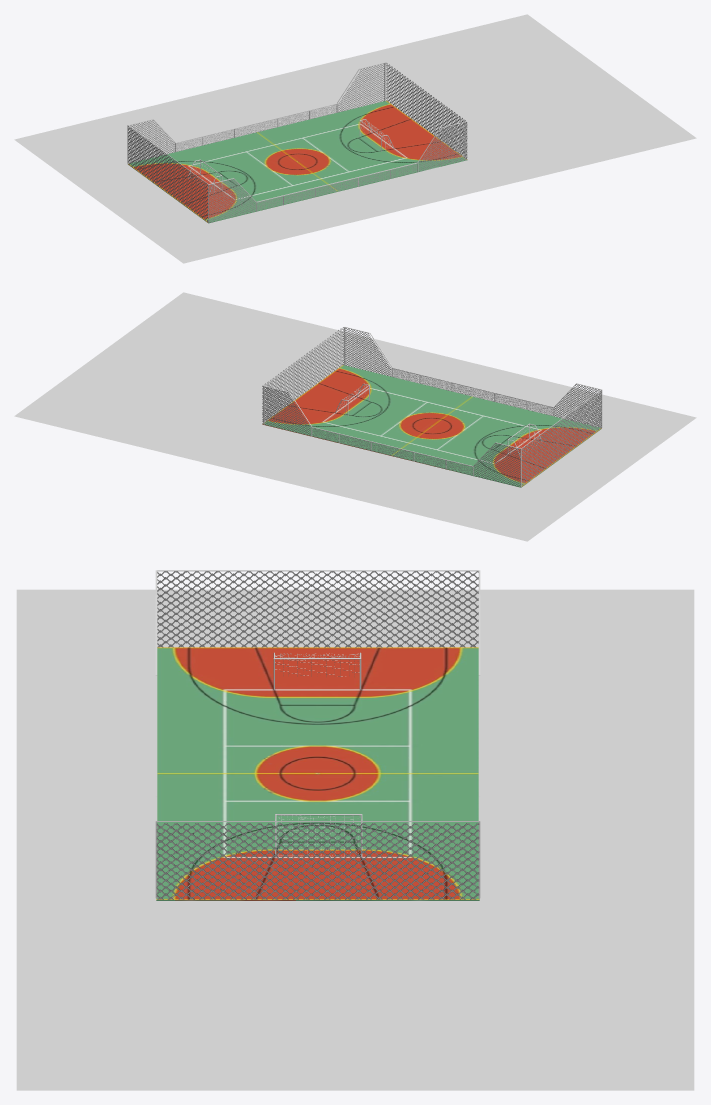
The model's file is praca.fbx.
3 views of the same model, one above another, from view 1: azimuth 30°, elevation 25°; view 2: azimuth 150°, elevation 25°; view 3: azimuth 270°, elevation 25° (orthographic). The views are drawn at different scales.
Parts seen in each view (by area): view 1: Plane, Cube, Plane.001, Cube.002; view 2: Plane, Cube, Plane.001, Cube.002; view 3: Plane, Cube, Plane.001, Cube.002, Frame.
Part boxes in pixels (x1=…): Plane: x1=14, y1=14, x2=696, y2=263; Cube: x1=128, y1=100, x2=467, y2=223; Plane.001: x1=128, y1=62, x2=467, y2=222; Cube.002: x1=127, y1=62, x2=465, y2=222; Plane: x1=14, y1=292, x2=696, y2=541; Cube: x1=262, y1=365, x2=601, y2=487; Plane.001: x1=262, y1=327, x2=601, y2=486; Cube.002: x1=263, y1=327, x2=602, y2=486; Plane: x1=16, y1=589, x2=694, y2=1090; Cube: x1=156, y1=647, x2=479, y2=900; Plane.001: x1=156, y1=571, x2=479, y2=899; Cube.002: x1=155, y1=570, x2=480, y2=898; Frame: x1=273, y1=652, x2=361, y2=689.
Size of the model in its own units: 5523 by 405 by 3157.
